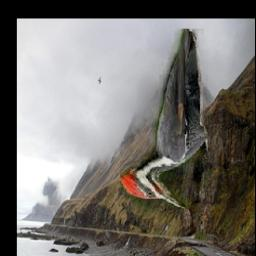Woodpecker: (120, 29, 208, 209)
